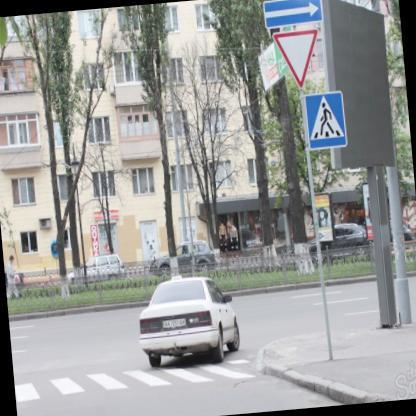road_sign: (304, 93, 347, 150), (276, 30, 318, 87), (264, 0, 322, 29)
